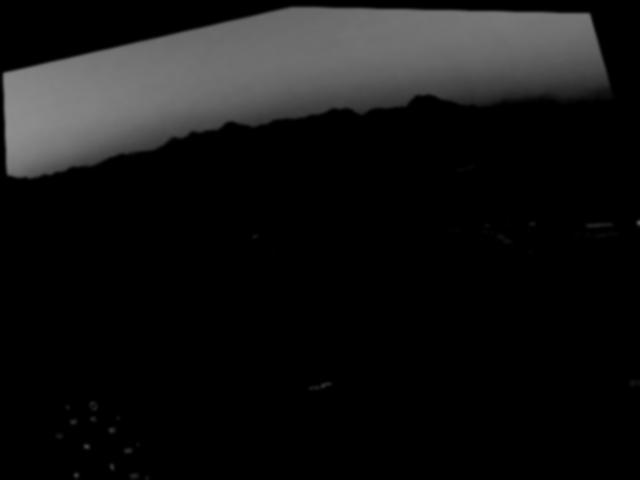hedef: (293, 363, 339, 404), (304, 338, 340, 369)
